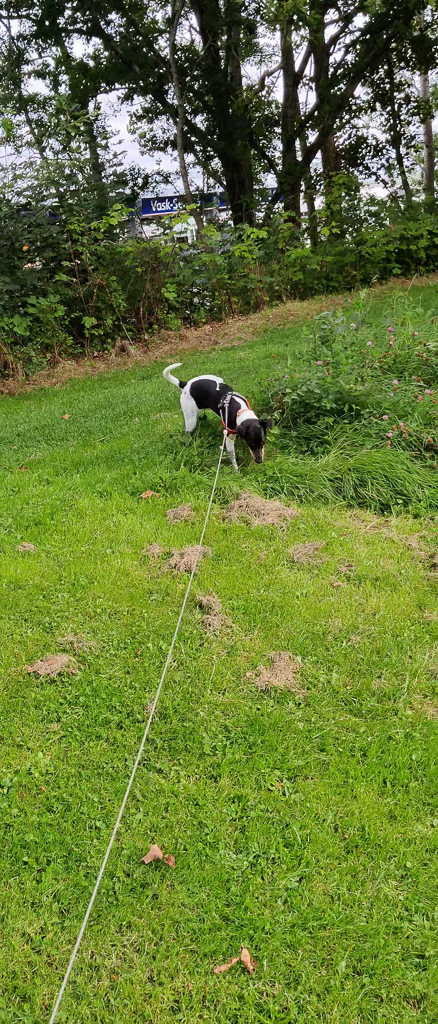Dog: (153, 354, 283, 482)
